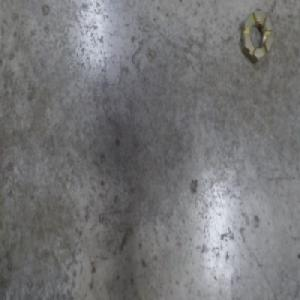Nut: (239, 6, 275, 67)
